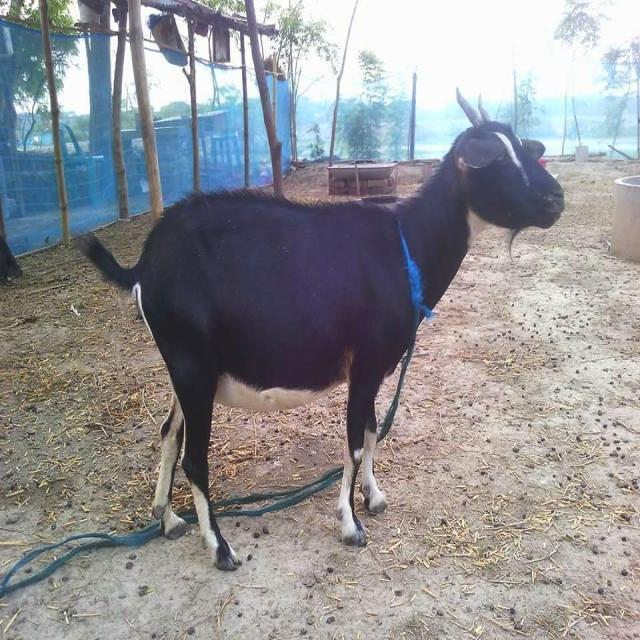Goat: (77, 85, 566, 571)
